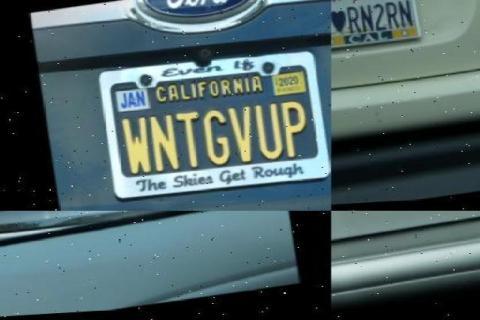LicensePlate: (93, 44, 332, 208), (332, 211, 466, 277), (332, 0, 426, 53), (26, 211, 118, 242)
